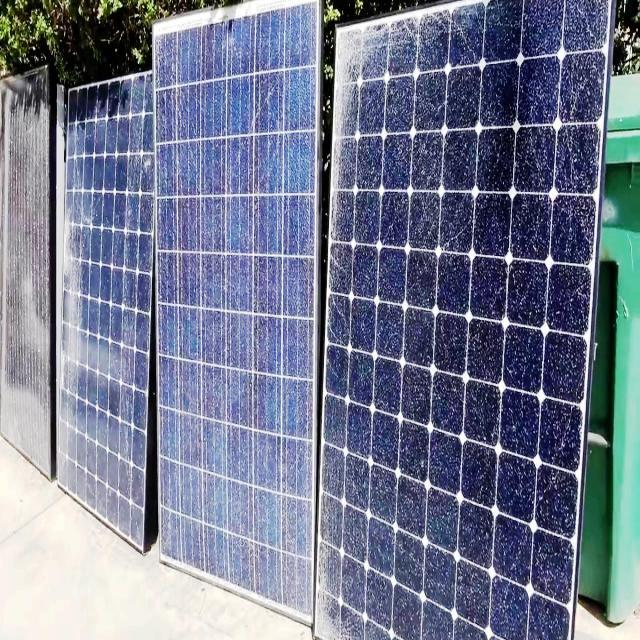faulty: (318, 2, 611, 640), (149, 5, 322, 622), (62, 69, 156, 559), (0, 53, 56, 490)
